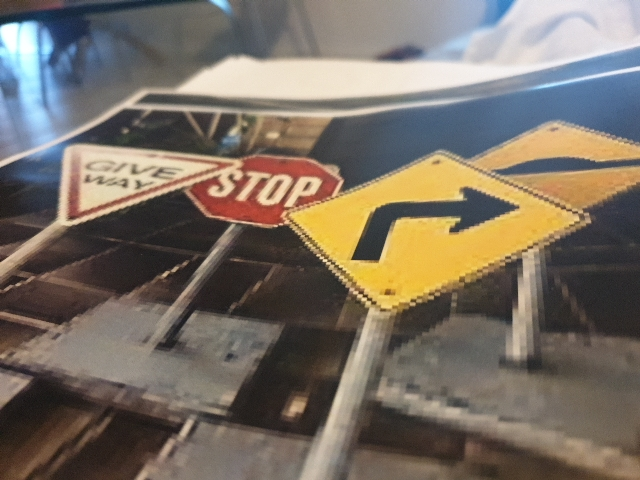giveway: (71, 142, 172, 210)
right: (349, 168, 526, 280)
stop: (218, 163, 310, 208)
